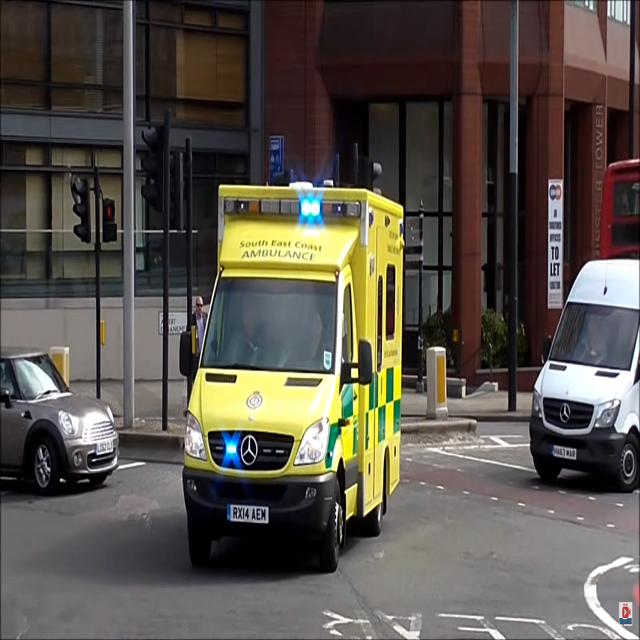emergency-vehicles: (165, 164, 422, 587)
